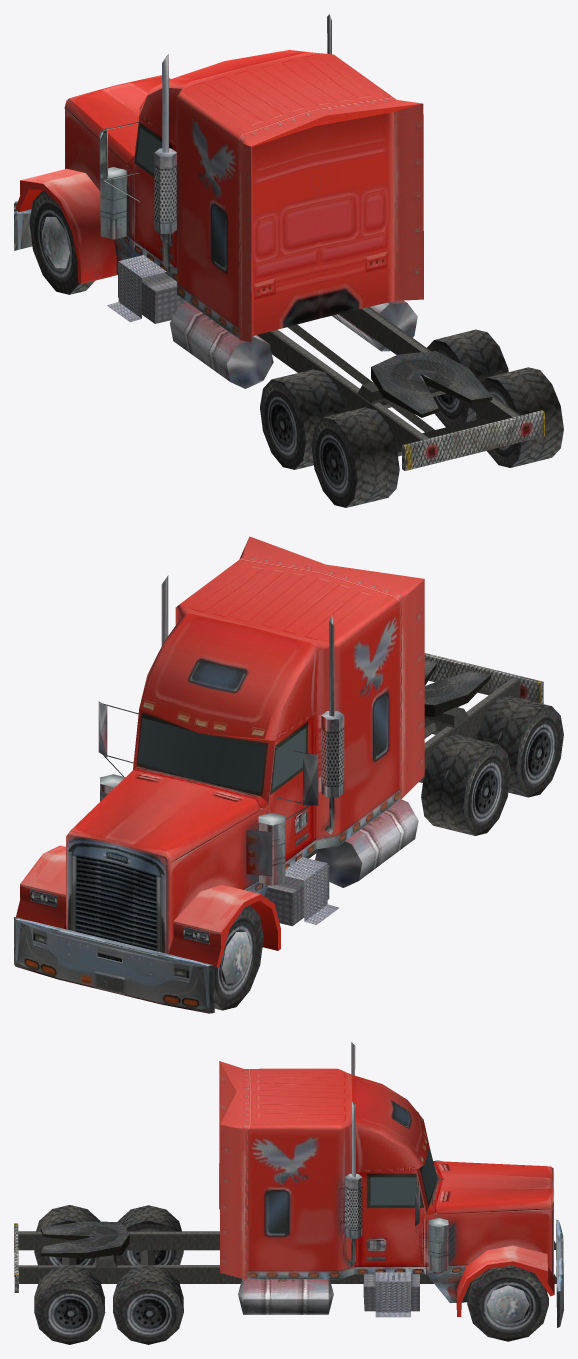
The model's file is p54_14_semi_longnose_red.glb.
3 renders of one model, top to bottom at view 1: azimuth 30°, elevation 25°; view 2: azimuth 150°, elevation 25°; view 3: azimuth 270°, elevation 25°, orthographic. The views are drawn at different scales.
Visible parts, largest first — view 1: Body, Glass; view 2: Body, Glass; view 3: Body, Glass.
Part boxes in pixels (x1,y1,x2,y2): Body: (14,14,563,507); Glass: (136,127,162,173); Body: (14,536,563,1013); Glass: (137,718,305,791); Body: (14,1042,563,1344); Glass: (370,1147,437,1205).
Size of the model in its own units: 3.05 by 4.19 by 8.86.
Materials: 2 (2 with a texture image).
